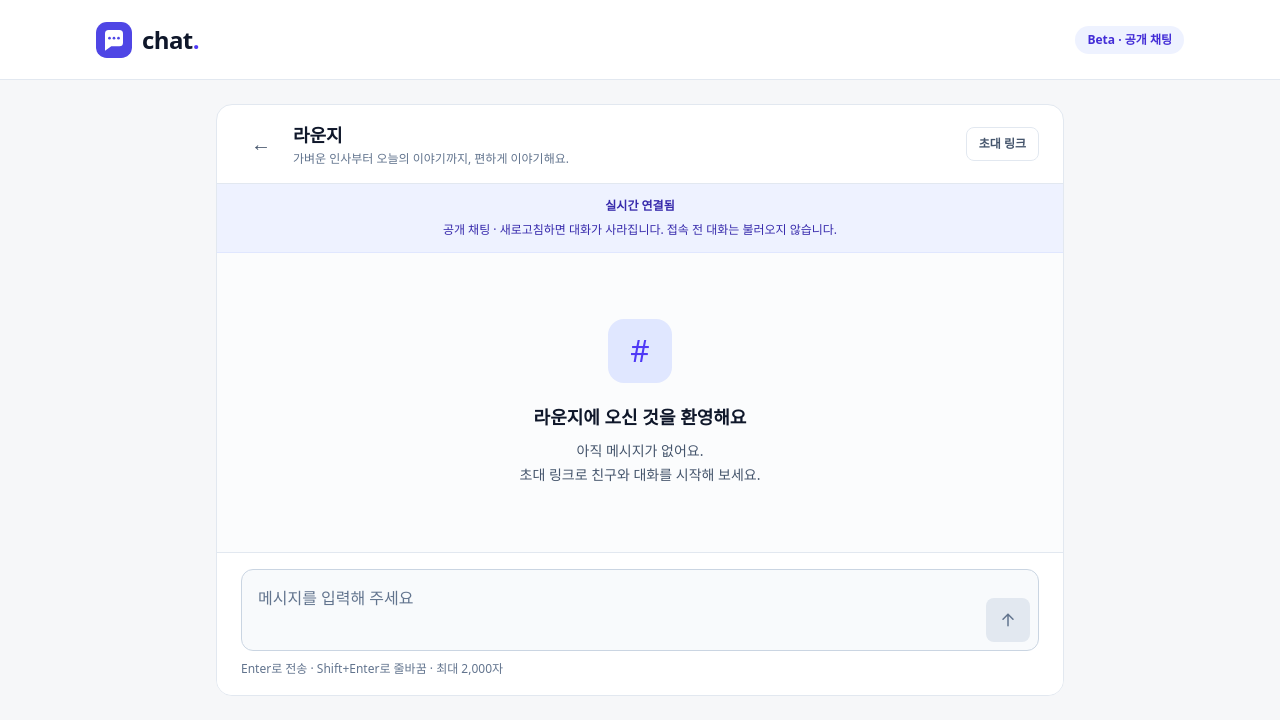
Test: 채팅 페이지 › 같은 방의 두 클라이언트가 서로의 메시지를 받고 다른 방은 받지 않는다
This screenshot has width=1280, height=720.
Type "A의 인사" into the text box labelled "메시지".
click(612, 610); type("A의 인사")  # box [250, 578, 974, 642]
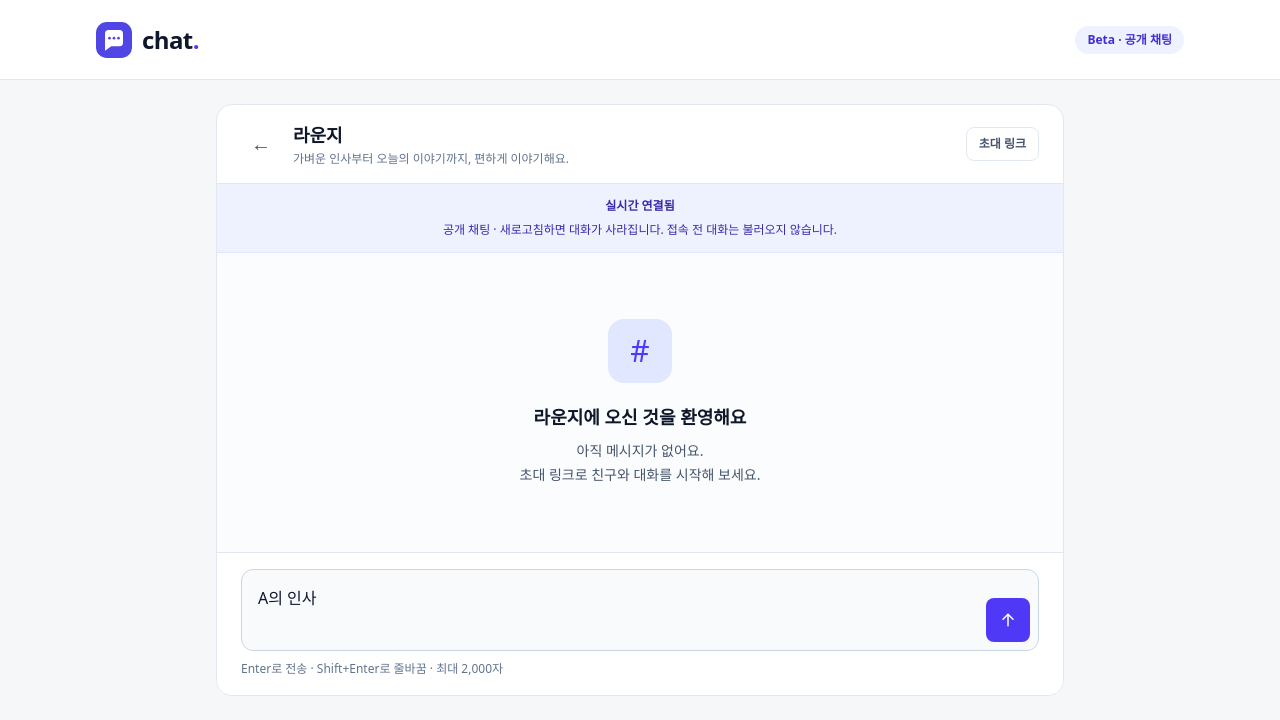
Press Enter in the text box named "메시지", box [250, 578, 974, 642]
(page scrolled)
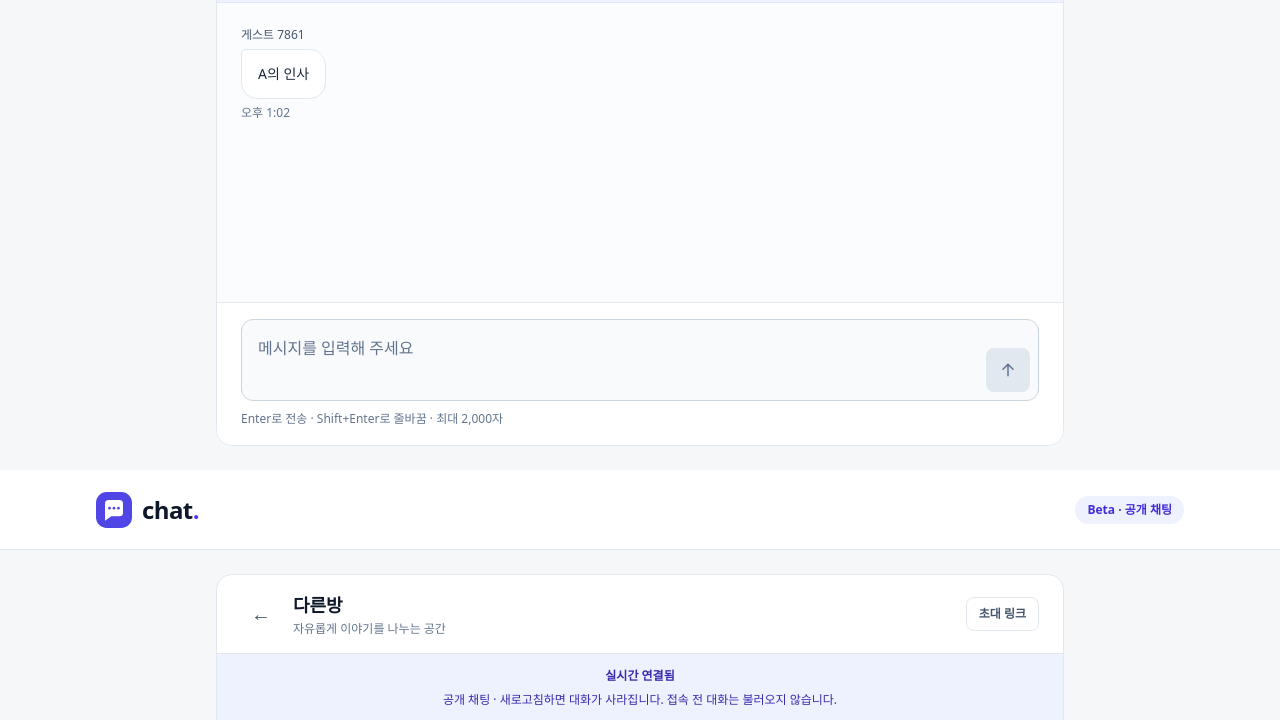
Expected: the text "A의 인사" is shown, [241, 49, 326, 99]
Expected: the text "게스트 7861" is shown, [241, 27, 305, 43]
Type "B의 답장" into the text box labelled "메시지".
click(612, 360); type("B의 답장")  # box [250, 328, 974, 392]
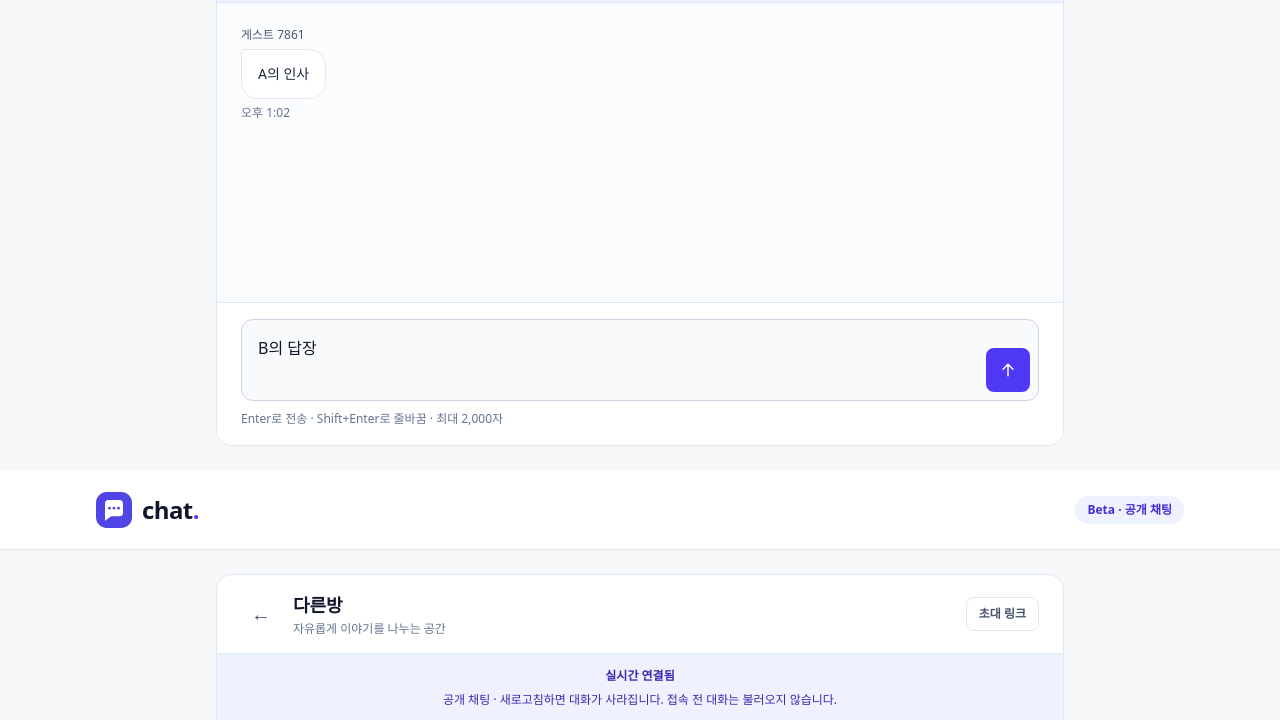
Press Enter in the text box named "메시지", box [250, 328, 974, 392]
(page scrolled)
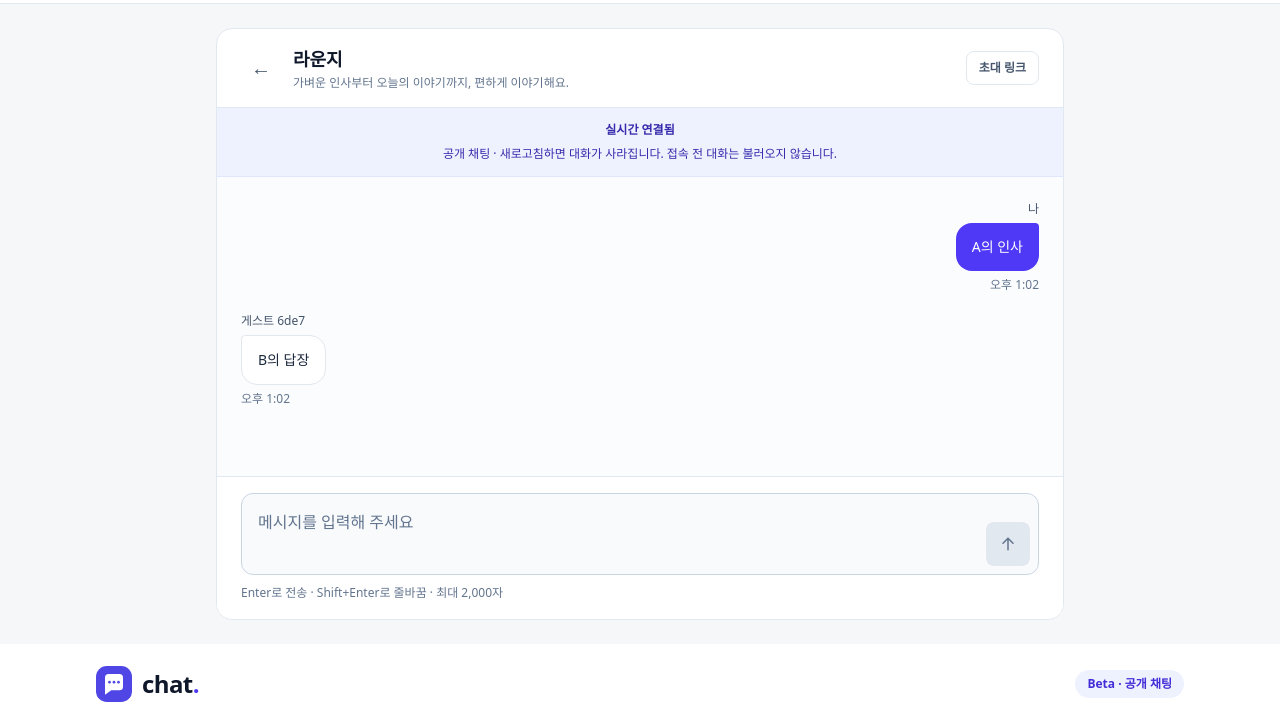
Expected: the text "B의 답장" is shown, [241, 335, 326, 385]
